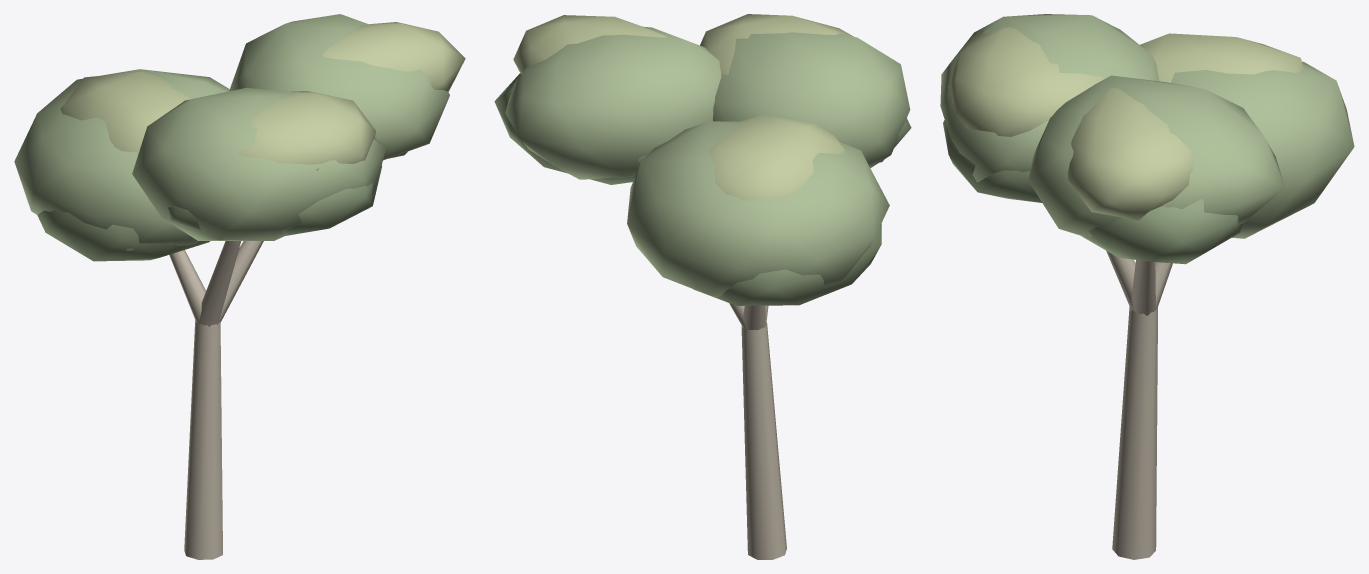
Rendered from tree_eucalyptus_9.glb.
3 renders of one model, left to right at view 1: azimuth 30°, elevation 25°; view 2: azimuth 150°, elevation 25°; view 3: azimuth 270°, elevation 25°, orthographic. The views are drawn at different scales.
Visible parts, largest first — view 1: tree_eucalyptus_9.glb; view 2: tree_eucalyptus_9.glb; view 3: tree_eucalyptus_9.glb.
Boxes of the visible parts, x1,y1,x2,y2 form: tree_eucalyptus_9.glb: (14, 14, 465, 559); tree_eucalyptus_9.glb: (494, 14, 911, 559); tree_eucalyptus_9.glb: (940, 14, 1354, 559).
Bounding box in the file's own units: 5.13 × 6.1 × 4.34.
